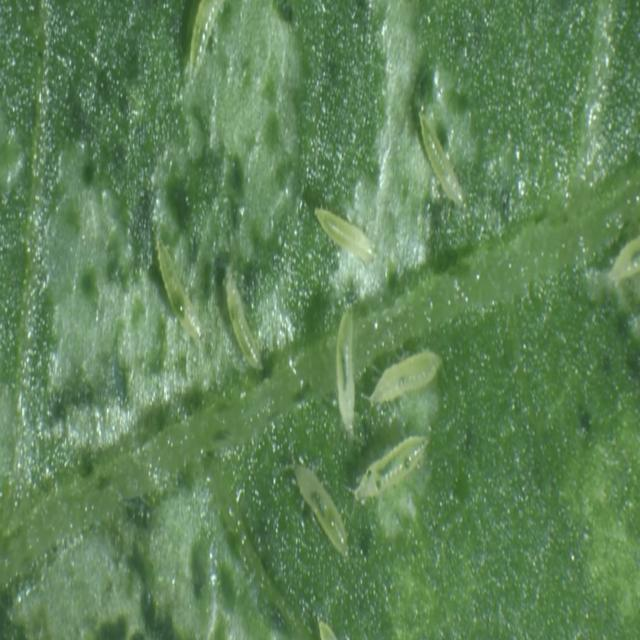Thrip-Larva-: (145, 220, 205, 355), (287, 458, 351, 564), (308, 185, 382, 270), (364, 338, 450, 411), (350, 431, 430, 507), (323, 303, 363, 447), (418, 108, 468, 212), (222, 275, 268, 379)
